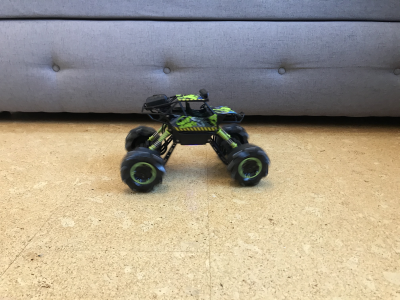remote control car: (118, 86, 272, 195)
